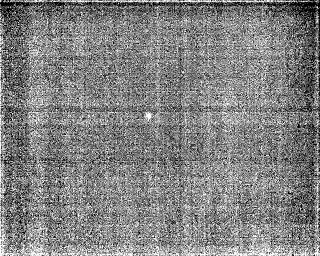BIRD: (143, 109, 154, 122)
